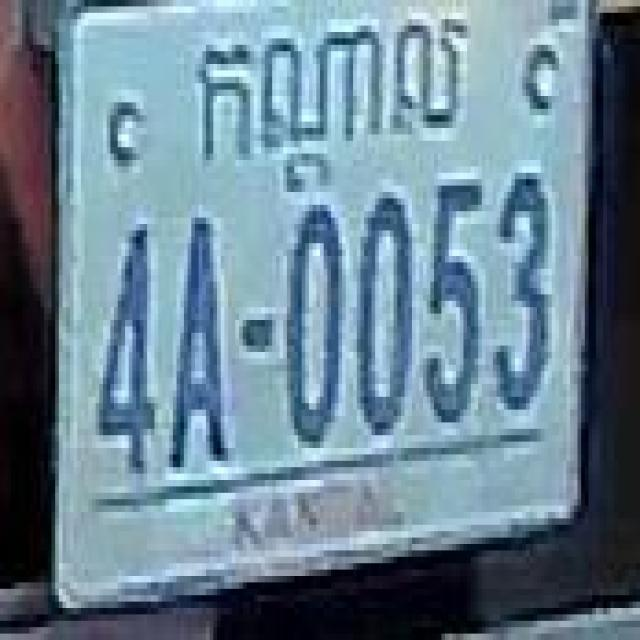Kandal: (195, 0, 471, 186)
